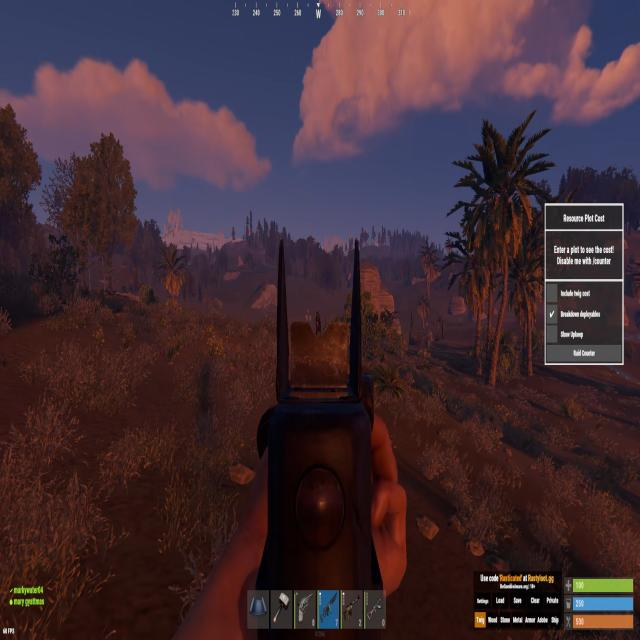Player: (315, 308, 321, 338)
